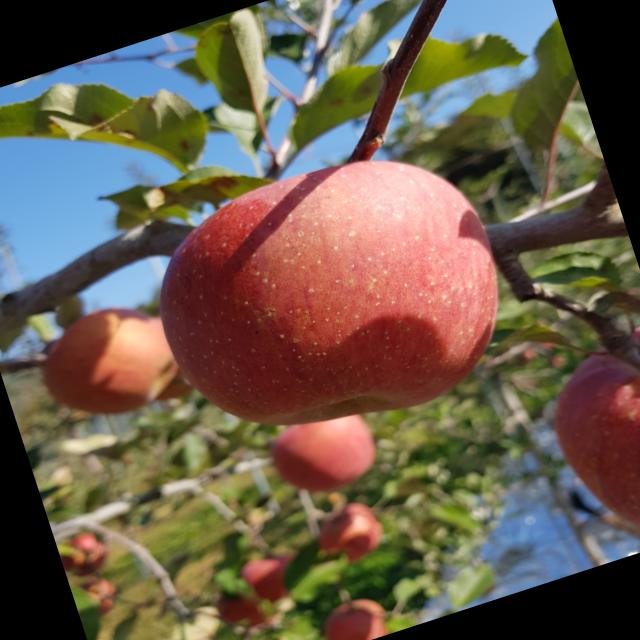fresh: (120, 114, 550, 482)
